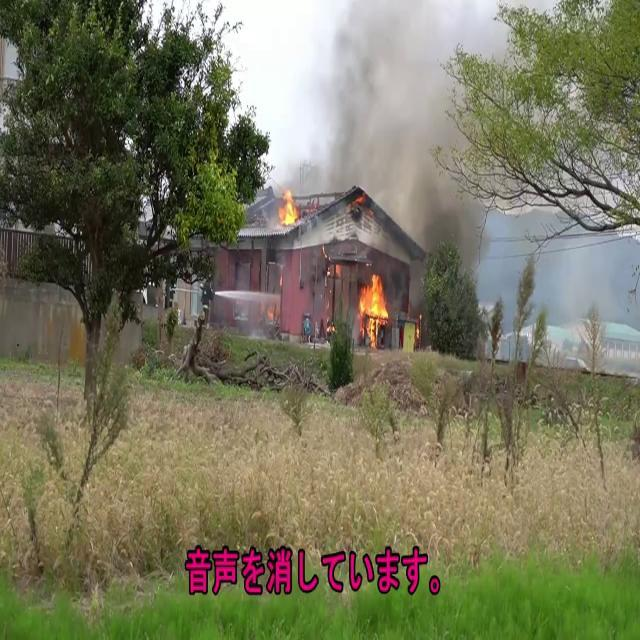Fire: (355, 268, 392, 346), (274, 186, 302, 232)
Smoke: (294, 0, 467, 237)
